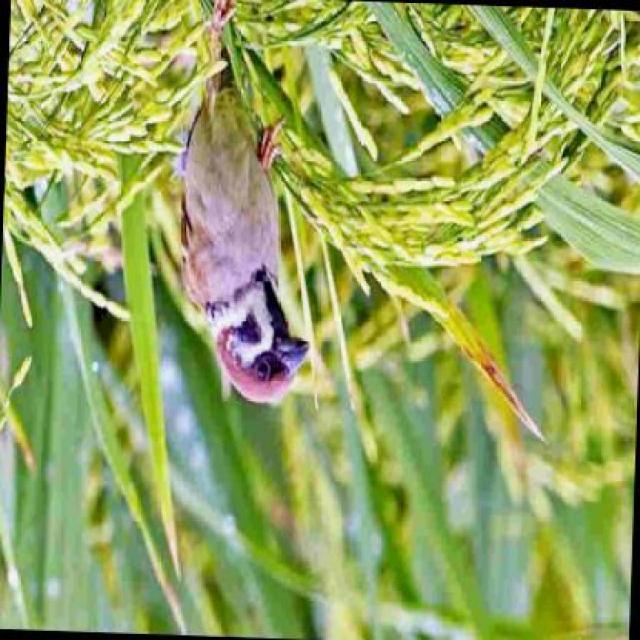Bird: (170, 74, 315, 409)
